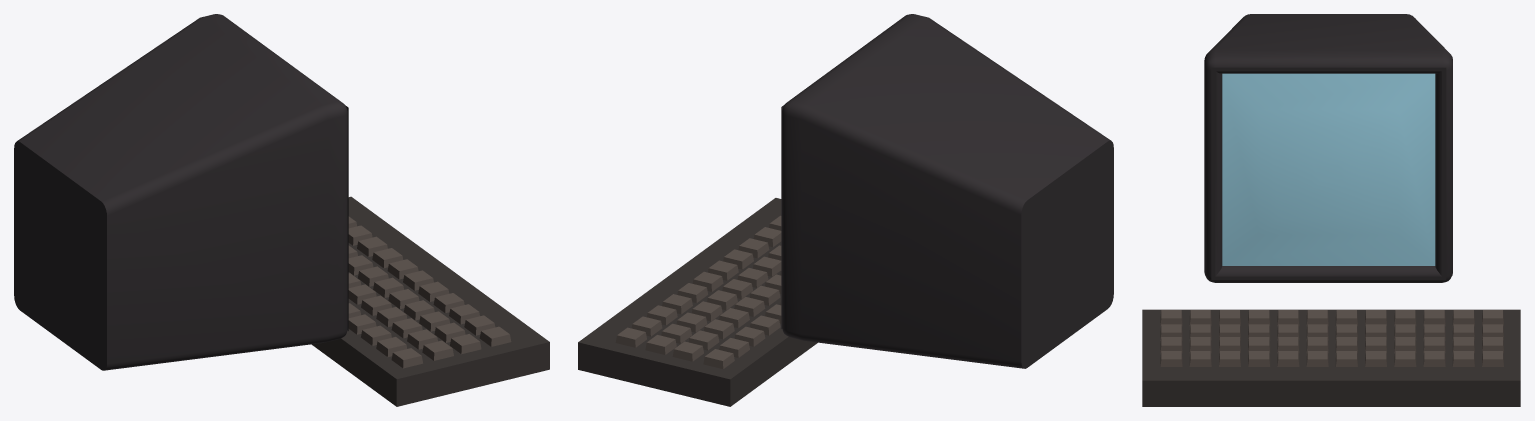
File: Computer.fbx
3 renders of one model, left to right at view 1: azimuth 30°, elevation 25°; view 2: azimuth 150°, elevation 25°; view 3: azimuth 270°, elevation 25°, orthographic. The views are drawn at different scales.
Parts seen in each view (by area): view 1: Cube, Cube.001, Cube.005, Cube.004, Cube.003, Cube.002; view 2: Cube, Cube.001, Cube.005, Cube.004, Cube.003, Cube.002; view 3: Cube, Cube.001, Cube.005, Cube.002, Cube.004, Cube.003.
Boxes of the visible parts, x1=… form: Cube: x1=14, y1=14, x2=348, y2=370; Cube.001: x1=311, y1=196, x2=549, y2=406; Cube.005: x1=348, y1=216, x2=511, y2=346; Cube.004: x1=348, y1=245, x2=481, y2=354; Cube.003: x1=348, y1=273, x2=453, y2=360; Cube.002: x1=348, y1=303, x2=422, y2=368; Cube: x1=781, y1=14, x2=1113, y2=368; Cube.001: x1=578, y1=198, x2=817, y2=406; Cube.005: x1=615, y1=215, x2=781, y2=347; Cube.004: x1=645, y1=245, x2=781, y2=354; Cube.003: x1=672, y1=271, x2=781, y2=361; Cube.002: x1=703, y1=301, x2=781, y2=368; Cube: x1=1204, y1=14, x2=1452, y2=282; Cube.001: x1=1142, y1=309, x2=1520, y2=406; Cube.005: x1=1160, y1=351, x2=1503, y2=366; Cube.002: x1=1160, y1=310, x2=1503, y2=326; Cube.004: x1=1160, y1=337, x2=1503, y2=353; Cube.003: x1=1160, y1=324, x2=1503, y2=340.
Size of the model in its own units: 346 by 239 by 304.
